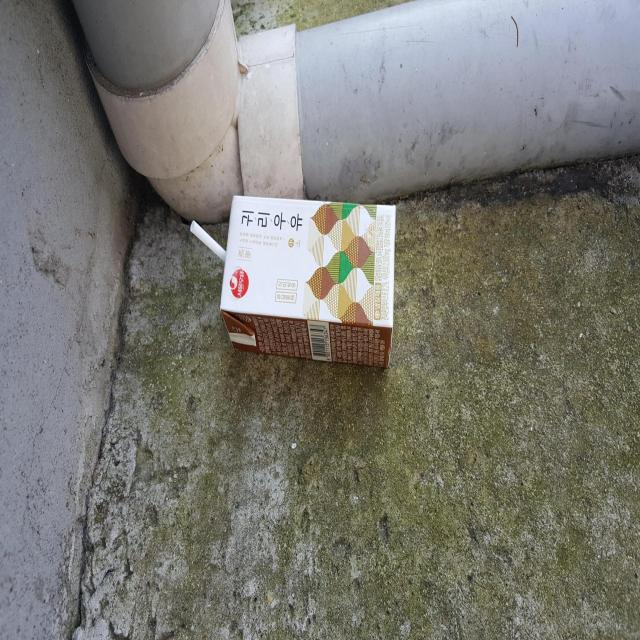paperpack: (220, 195, 396, 367)
